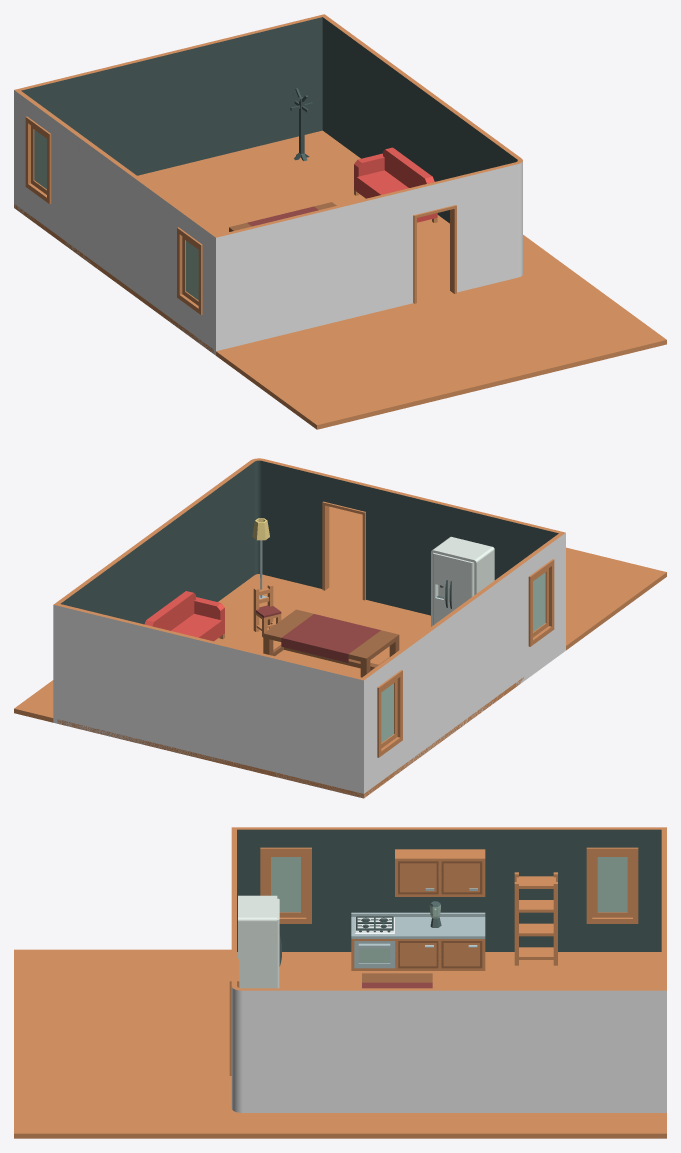
File: birthday_room.glb
3 views of the same model, one above another, from view 1: azimuth 30°, elevation 25°; view 2: azimuth 150°, elevation 25°; view 3: azimuth 270°, elevation 25° (orthographic). The views are drawn at different scales.
Parts seen in each view (by area): view 1: wall (×12), floorFull (×16), wallWindow (×2), wallDoorway, wallCornerRond, loungeSofa, coatRackStanding; view 2: wall (×12), floorFull (×11), wallWindow (×2), wallCornerRond, wallDoorway, tableCloth, kitchenFridgeLarge, loungeSofa, chairCushion, lampRoundFloor; view 3: wall (×6), floorFull (×16), wallWindow (×2), wallCornerRond, kitchenCabinet (×2), kitchenCabinetUpper (×2), kitchenFridgeLarge, kitchenStove, bookcaseOpen, tableCloth, wallDoorway.
Part boxes in pixels (<box>): wall (×12): <box>14,14,500,355</box>; floorFull (×16): <box>137,130,666,429</box>; wallWindow (×2): <box>14,90,220,354</box>; wallDoorway: <box>389,172,478,308</box>; wallCornerRond: <box>476,143,522,287</box>; loungeSofa: <box>354,147,437,222</box>; coatRackStanding: <box>290,88,312,160</box>; wall (×12): <box>53,476,565,797</box>; floorFull (×11): <box>14,506,666,798</box>; wallWindow (×2): <box>359,533,565,797</box>; wallCornerRond: <box>228,458,302,591</box>; wallDoorway: <box>301,468,390,604</box>; tableCloth: <box>263,609,399,677</box>; kitchenFridgeLarge: <box>431,536,494,626</box>; loungeSofa: <box>144,591,224,641</box>; chairCushion: <box>253,584,281,637</box>; lampRoundFloor: <box>252,518,269,600</box>; wall (×6): <box>286,827,666,1112</box>; floorFull (×16): <box>14,949,666,1138</box>; wallWindow (×2): <box>232,827,666,951</box>; wallCornerRond: <box>231,965,291,1112</box>; kitchenCabinet (×2): <box>395,912,485,970</box>; kitchenCabinetUpper (×2): <box>395,849,485,896</box>; kitchenFridgeLarge: <box>238,895,281,988</box>; kitchenStove: <box>351,912,398,970</box>; bookcaseOpen: <box>514,872,557,965</box>; tableCloth: <box>362,973,432,988</box>; wallDoorway: <box>229,919,239,1075</box>.
Bounding box in the file's own units: 4.02 × 1.29 × 6.
1 material, 1 textured.
